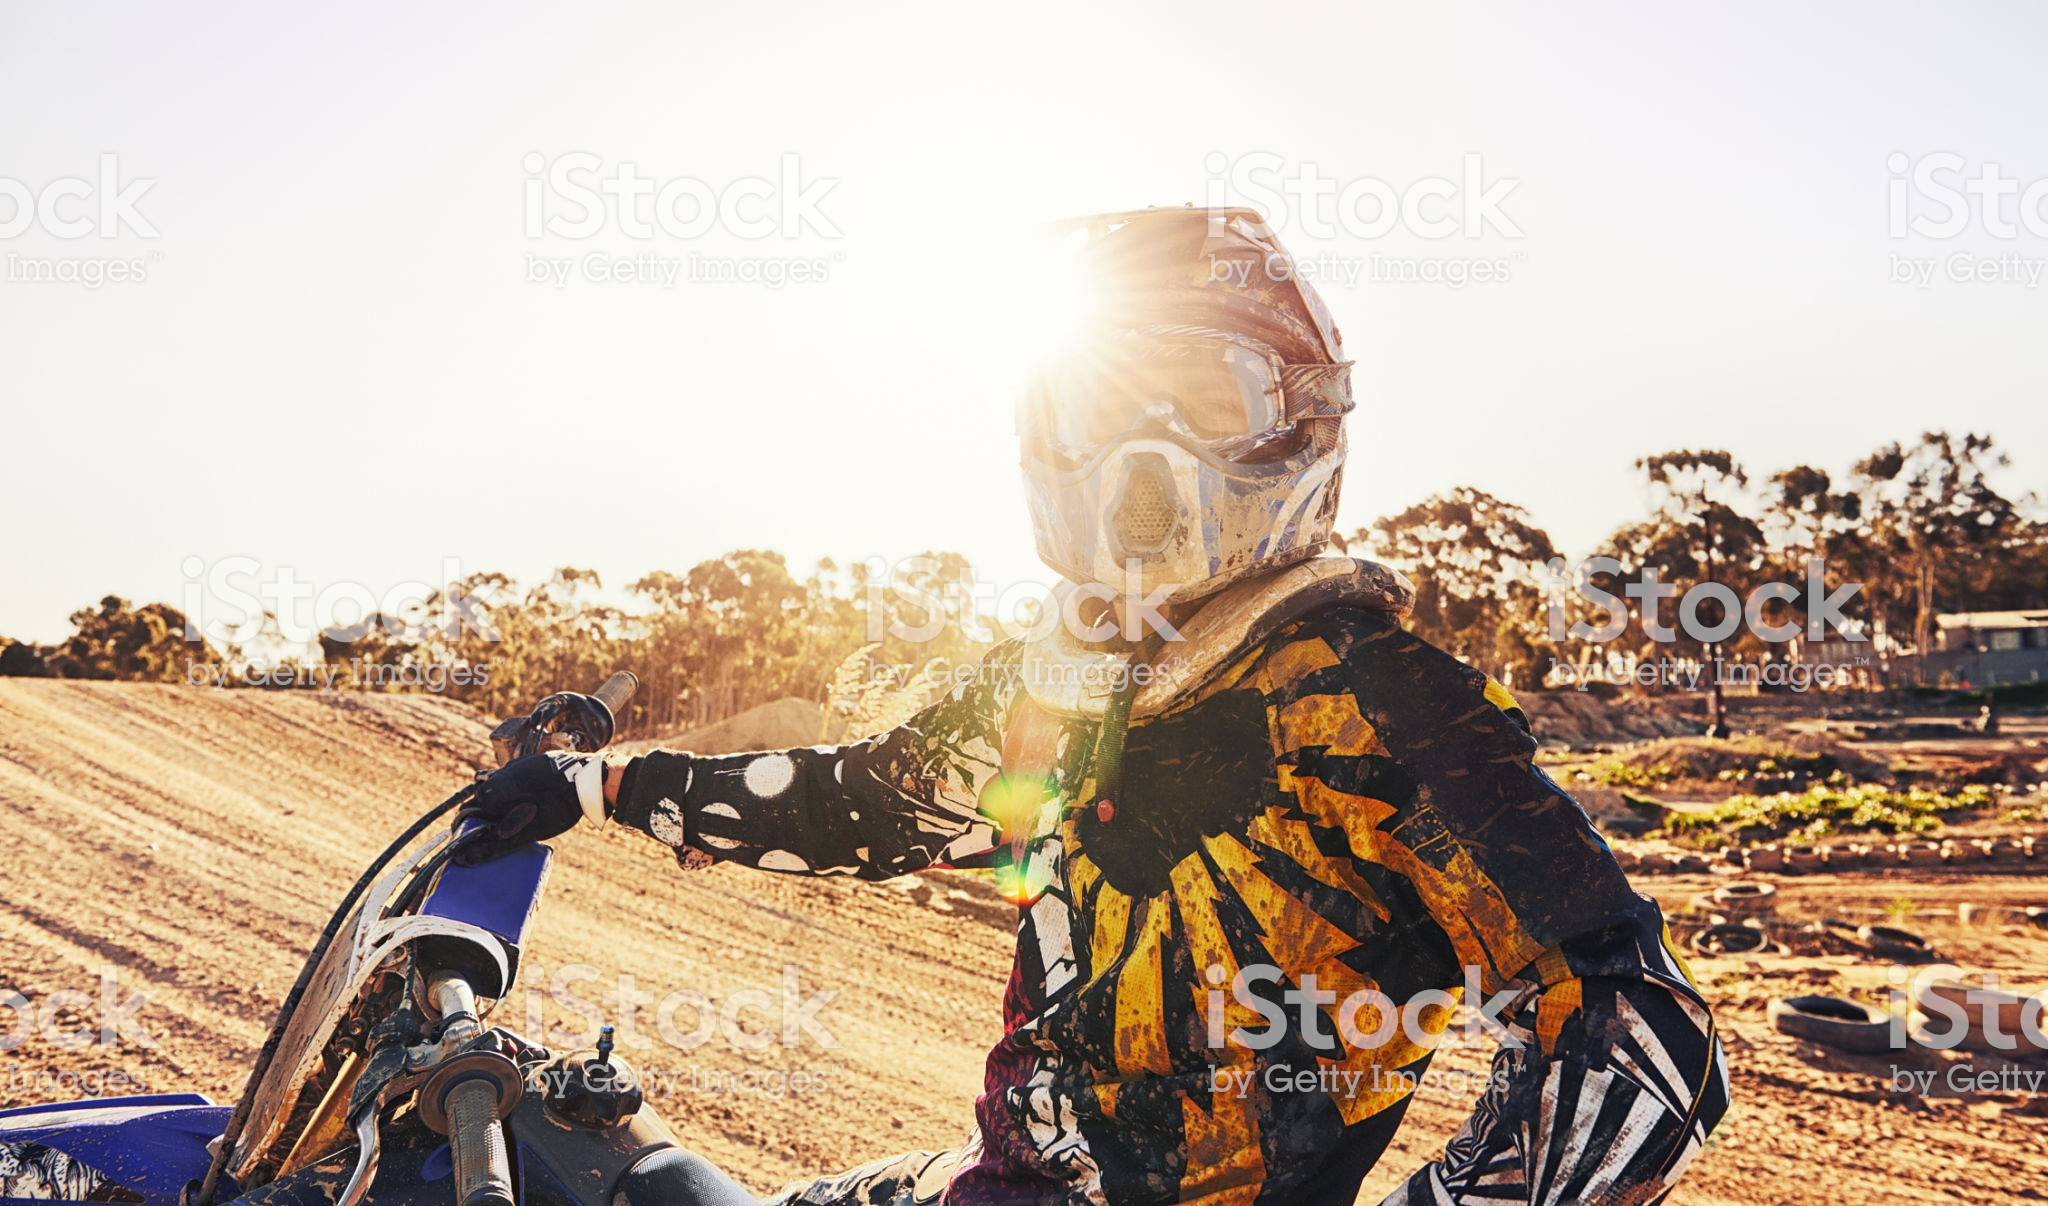helmet: (962, 220, 1366, 574)
